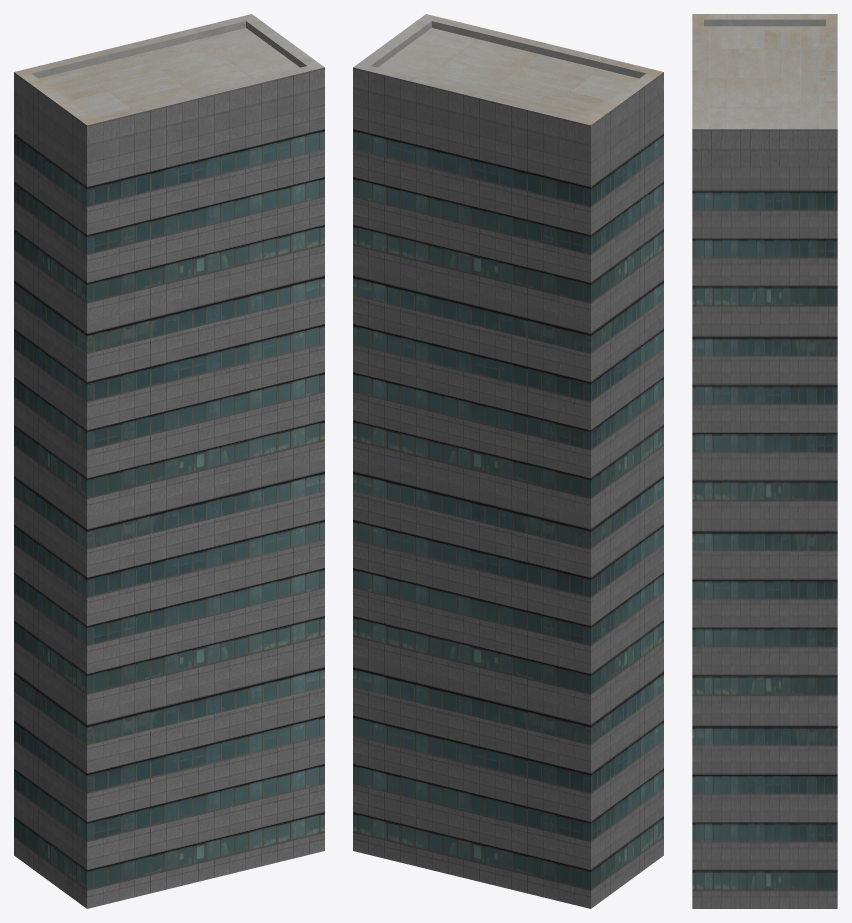
The model's file is Pizza Delivery house13.fbx.
3 views of the same model, side by side, from view 1: azimuth 30°, elevation 25°; view 2: azimuth 150°, elevation 25°; view 3: azimuth 270°, elevation 25° (orthographic).
Parts seen in each view (by area): view 1: Pizza_Delivery:Pizza_Delivery:house13; view 2: Pizza_Delivery:Pizza_Delivery:house13; view 3: Pizza_Delivery:Pizza_Delivery:house13.
Part boxes in pixels (left/top/right/bottom): Pizza_Delivery:Pizza_Delivery:house13: left=14, top=14, right=324, bottom=908; Pizza_Delivery:Pizza_Delivery:house13: left=353, top=14, right=663, bottom=908; Pizza_Delivery:Pizza_Delivery:house13: left=692, top=14, right=837, bottom=908.
Size of the model in its own units: 13.5 by 42.49 by 7.18.
